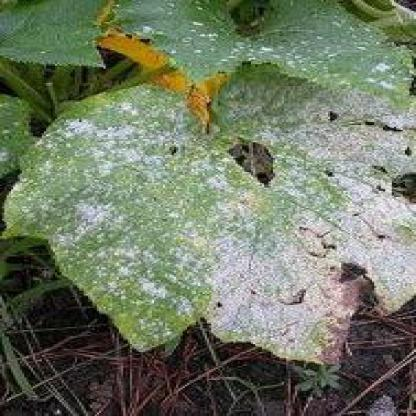squash powdery mildew leaf: (24, 56, 414, 375)
